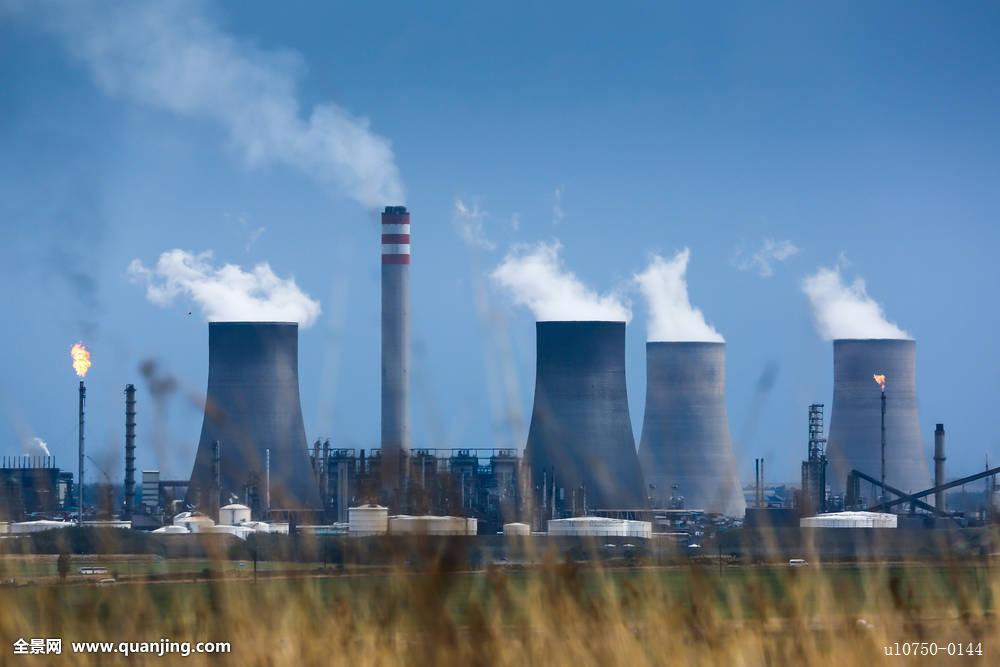dust: (256, 83, 426, 220), (139, 240, 324, 341), (489, 237, 633, 333), (623, 246, 738, 349), (796, 259, 924, 349)
